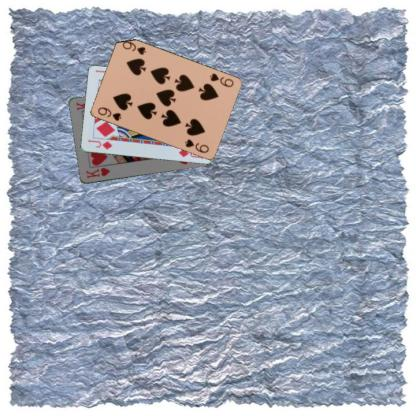9s: (95, 104, 122, 122), (207, 70, 234, 88)
Jd: (86, 137, 113, 151)
Kh: (83, 165, 111, 180)
